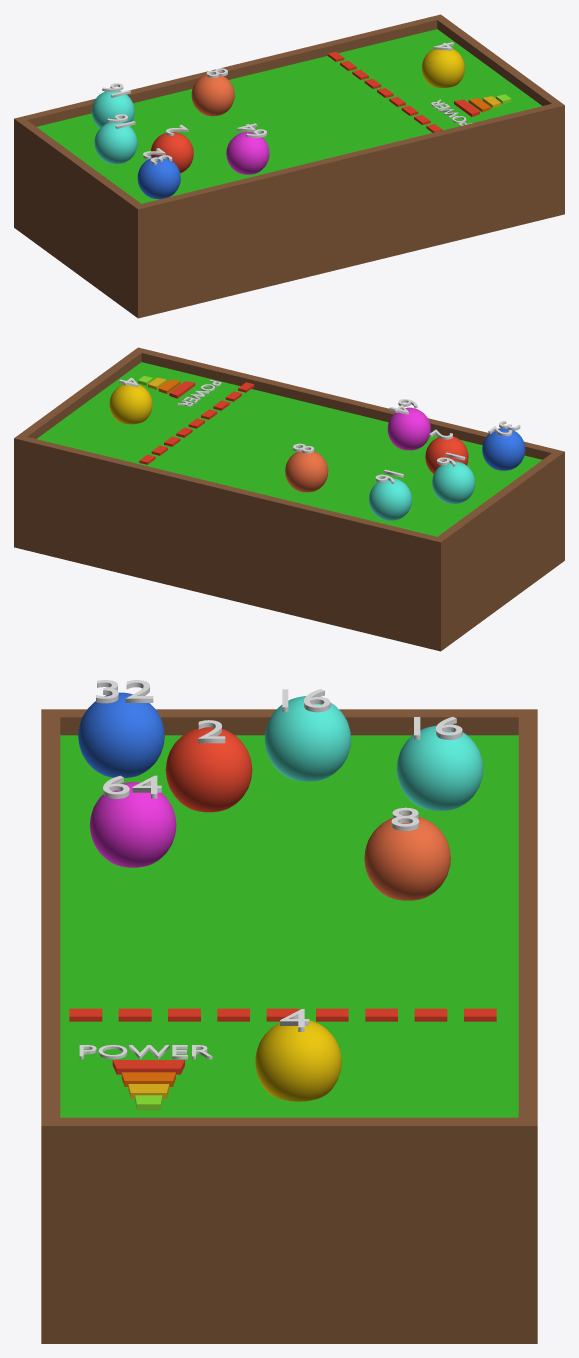
Rendered from 2048pool.fbx.
3 renders of one model, top to bottom at view 1: azimuth 30°, elevation 25°; view 2: azimuth 150°, elevation 25°; view 3: azimuth 270°, elevation 25°, orthographic. The views are drawn at different scales.
Parts seen in each view (by area): view 1: Table, Sphere, Sphere.004, Sphere.002, Sphere.003, Sphere.006, Sphere.005, Sphere.001, Power Bar; view 2: Table, Sphere.002, Sphere.004, Sphere, Sphere.005, Sphere.006, Sphere.003, Sphere.001, Power Bar; view 3: Table, Sphere.001, Sphere.003, Sphere.005, Sphere.006, Sphere.002, Sphere.004, Sphere, Power Bar, Text, Text.005, Text.004.
Part boxes in pixels (x1,y1,x2,y2): Table: [14, 14, 564, 318]; Sphere: [226, 132, 269, 174]; Sphere.004: [94, 122, 137, 164]; Sphere.002: [191, 74, 234, 116]; Sphere.003: [137, 156, 180, 199]; Sphere.006: [421, 49, 464, 87]; Sphere.005: [91, 91, 134, 128]; Sphere.001: [151, 132, 193, 173]; Power Bar: [454, 94, 511, 116]; Table: [14, 347, 564, 651]; Sphere.002: [285, 449, 328, 492]; Sphere.004: [432, 461, 475, 503]; Sphere: [387, 407, 430, 450]; Sphere.005: [369, 478, 411, 520]; Sphere.006: [109, 384, 152, 424]; Sphere.003: [482, 428, 525, 470]; Sphere.001: [425, 435, 468, 473]; Power Bar: [138, 376, 195, 398]; Table: [41, 709, 537, 1343]; Sphere.001: [165, 727, 252, 812]; Sphere.003: [78, 692, 164, 778]; Sphere.005: [396, 725, 483, 810]; Sphere.006: [255, 1020, 341, 1101]; Sphere.002: [364, 815, 450, 900]; Sphere.004: [264, 696, 351, 781]; Sphere: [89, 782, 176, 867]; Power Bar: [112, 1060, 184, 1110]; Text: [79, 1045, 212, 1059]; Text.005: [96, 680, 153, 703]; Text.004: [103, 775, 161, 798].
Size of the model in its own units: 360 by 111 by 181.
